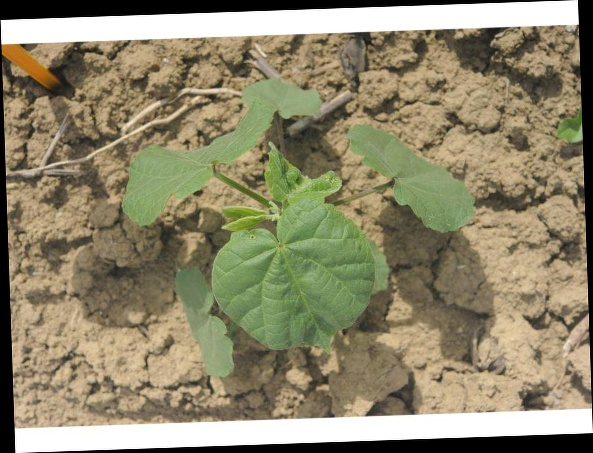velvet: (122, 76, 478, 375)
